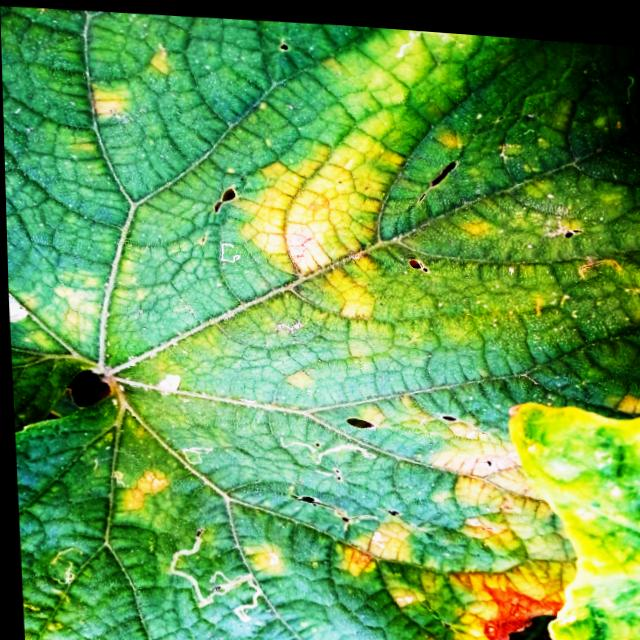Downy-Mildew: (0, 6, 640, 640)
